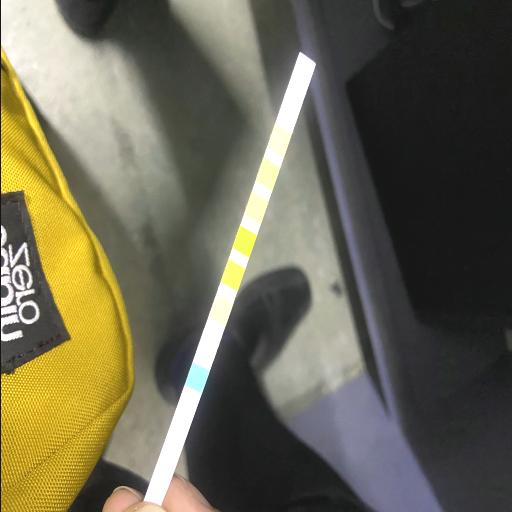Bilirubin: (202, 334, 214, 354)
Blood: (238, 232, 250, 252)
Glucose: (190, 368, 202, 388)
Ketone: (216, 300, 226, 320)
Leukocytes: (298, 59, 309, 79)
Nitrite: (286, 96, 296, 116)
Protein: (262, 164, 273, 184)
SpGravity: (226, 266, 238, 285)
Urobilinogen: (274, 130, 284, 150)
pH: (251, 198, 261, 218)
strip: (146, 53, 313, 503)
